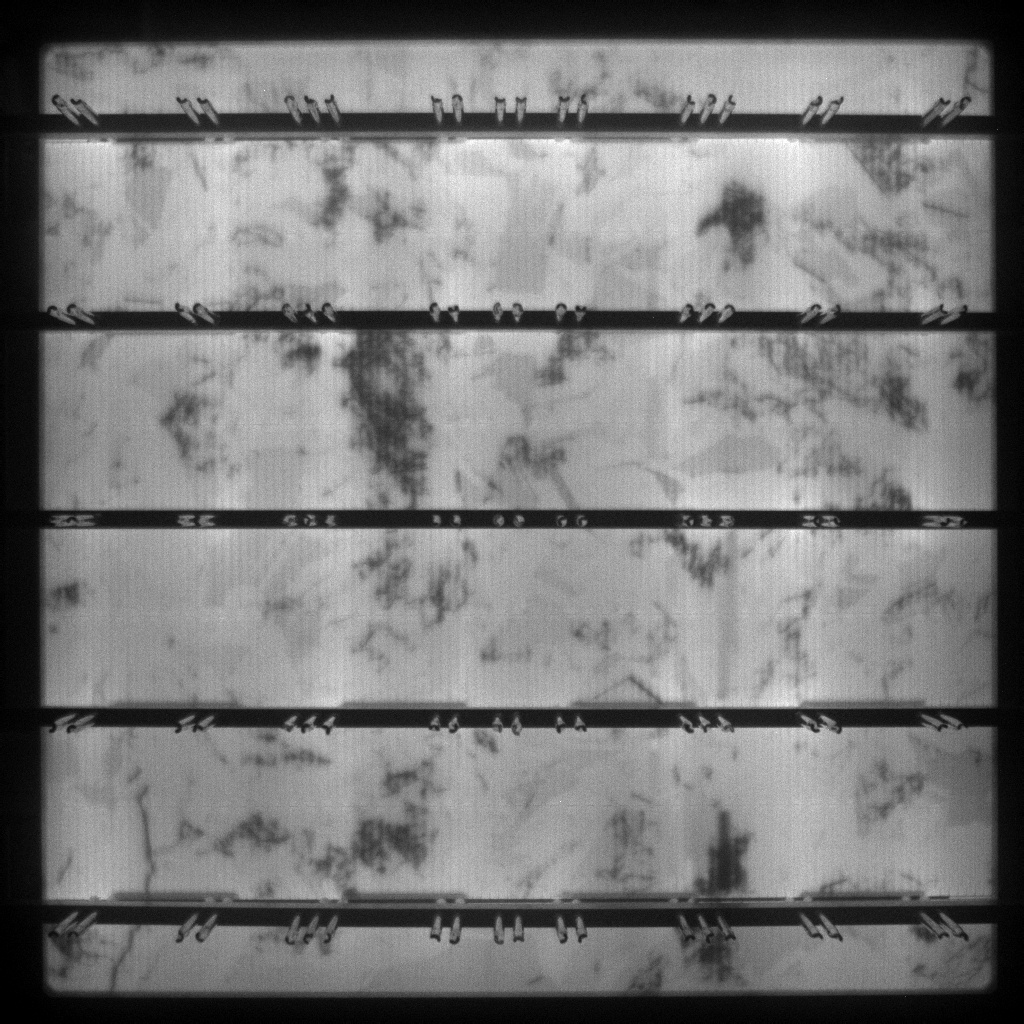crack: (133, 782, 160, 890), (108, 927, 137, 989)
